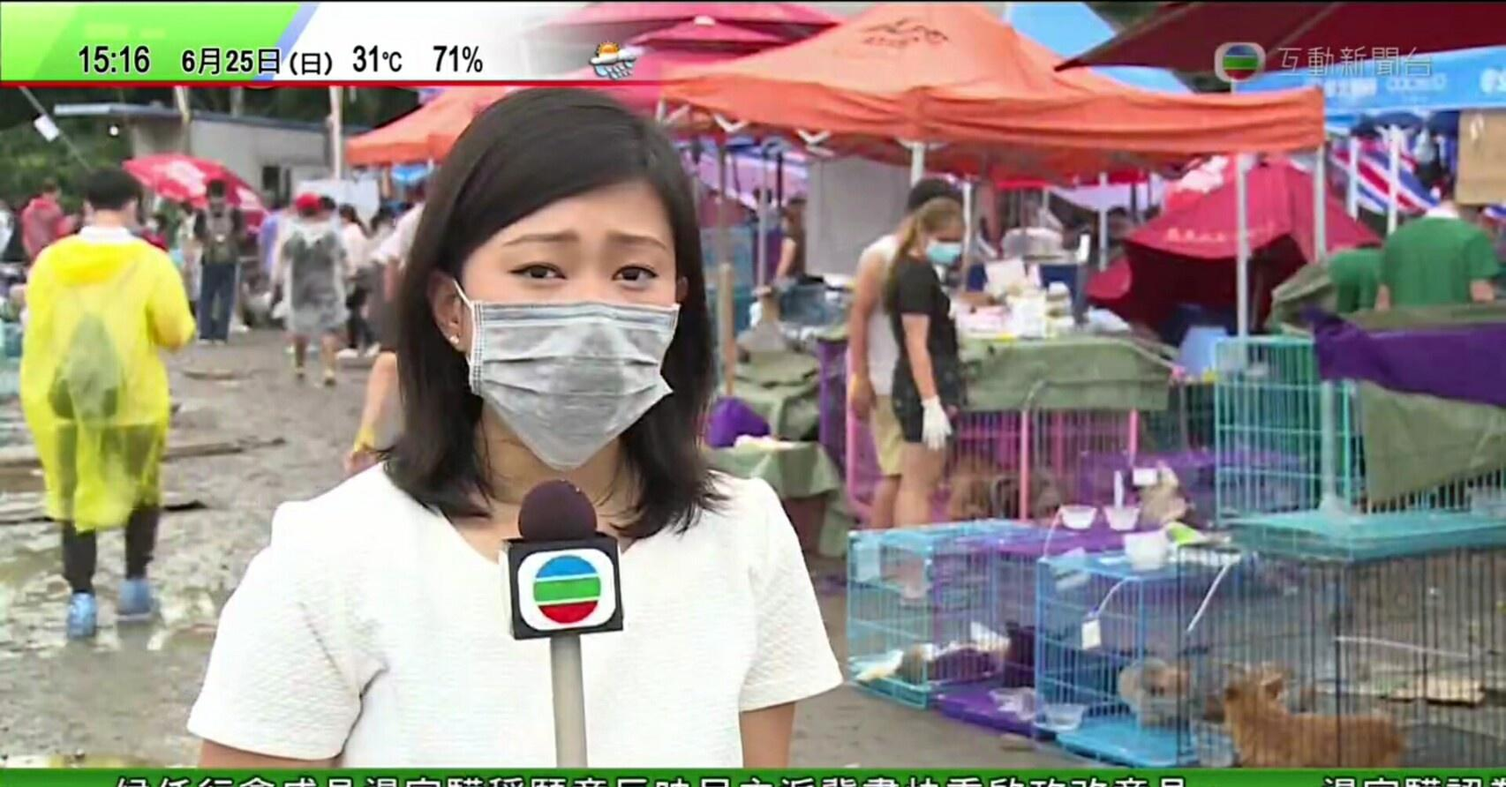OK: (450, 206, 690, 463), (919, 224, 963, 266)
